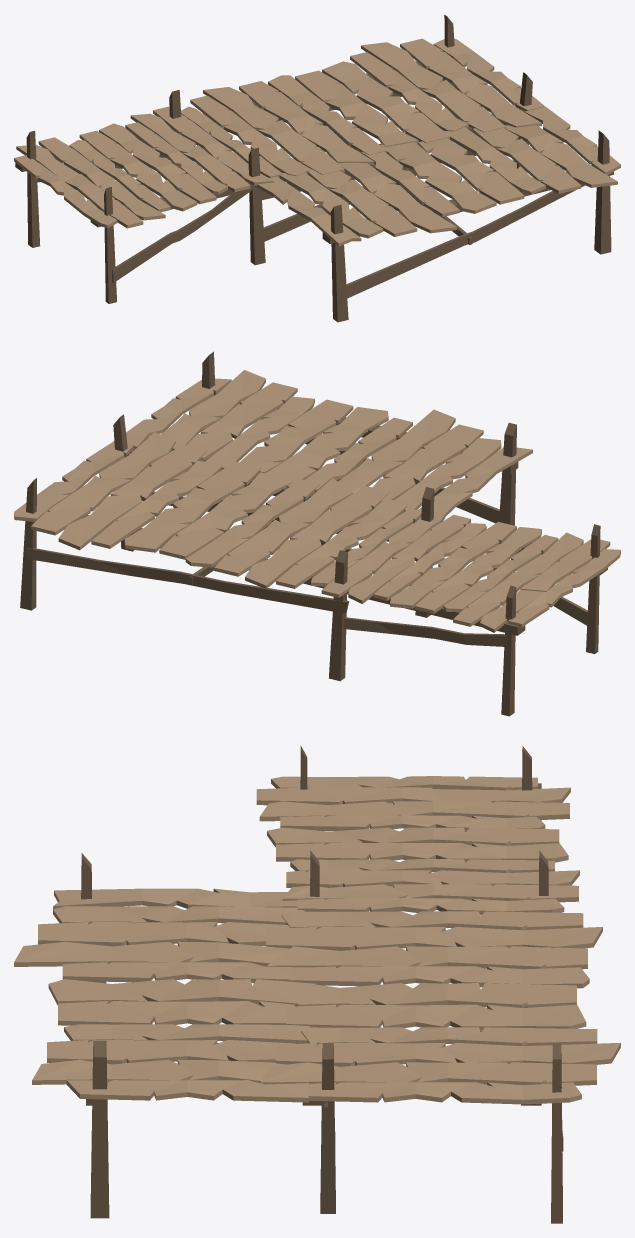
File: Platform_4.fbx
The picture shows the model from 3 angles, top to bottom: view 1: azimuth 30°, elevation 25°; view 2: azimuth 150°, elevation 25°; view 3: azimuth 270°, elevation 25°; orthographic projection. The views are drawn at different scales.
Parts seen in each view (by area): view 1: Platform_4; view 2: Platform_4; view 3: Platform_4.
Boxes of the visible parts, bbox=[...] form: Platform_4: bbox=[14, 14, 620, 322]; Platform_4: bbox=[14, 351, 620, 716]; Platform_4: bbox=[14, 745, 620, 1223].
Bounding box in the file's own units: 1221 × 304 × 970.
1 material, 1 textured.
